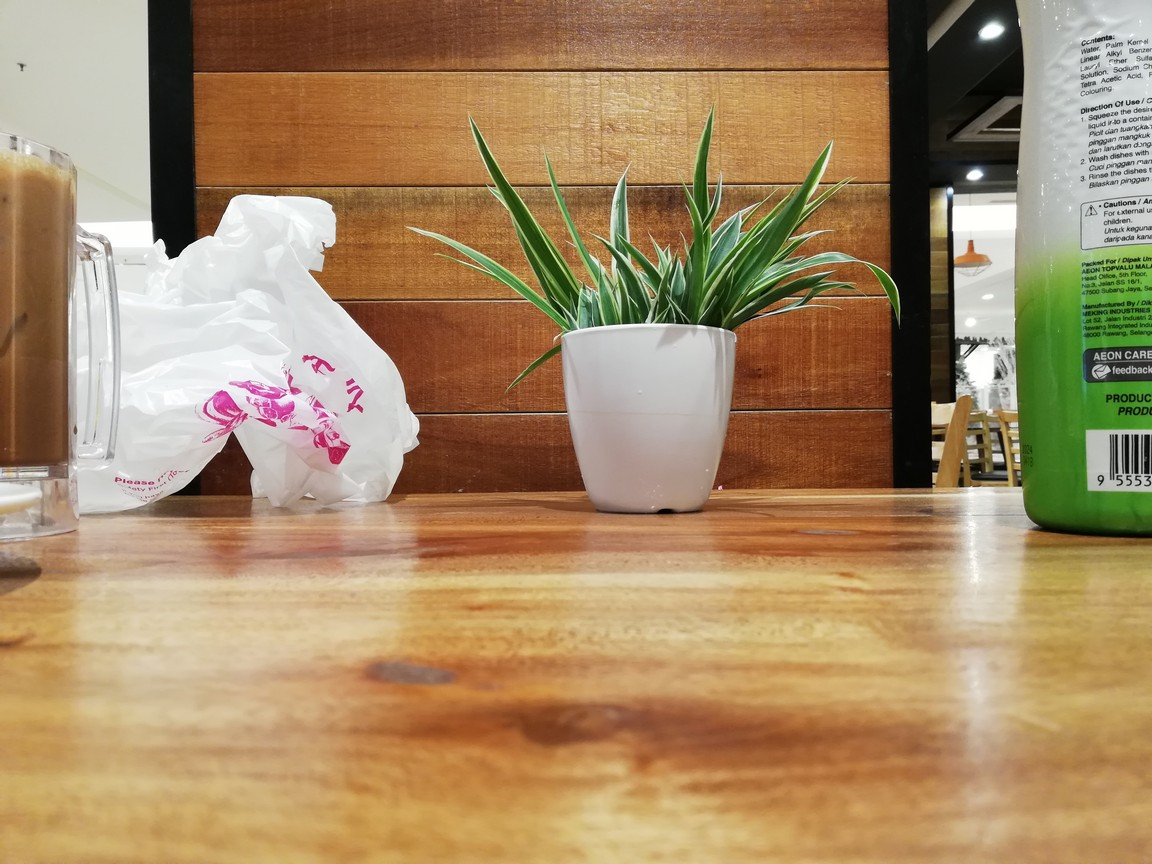daun: (540, 141, 577, 226), (463, 111, 505, 184), (501, 343, 561, 393), (868, 256, 903, 330), (399, 224, 485, 253), (692, 101, 719, 177), (591, 250, 614, 333), (608, 160, 634, 232), (806, 138, 834, 187), (714, 209, 740, 250), (822, 280, 871, 299), (616, 232, 644, 264), (478, 184, 507, 213), (795, 231, 836, 249), (710, 163, 724, 210), (577, 281, 591, 327), (584, 229, 611, 250), (677, 169, 694, 202), (549, 295, 570, 321), (645, 229, 663, 259), (800, 269, 838, 283), (432, 254, 464, 270), (589, 287, 601, 329), (659, 257, 673, 292), (723, 266, 736, 297), (762, 185, 783, 203), (636, 268, 652, 289), (806, 302, 843, 311), (782, 254, 809, 266), (741, 202, 761, 218), (565, 292, 577, 318), (828, 277, 859, 287), (680, 231, 691, 258), (663, 241, 673, 260), (673, 247, 681, 263)
